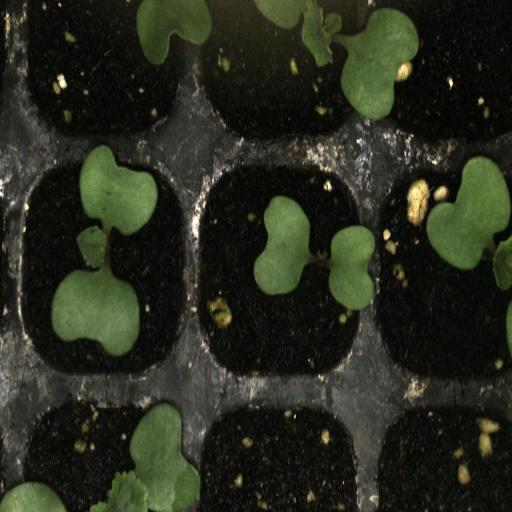seedling: (10, 151, 195, 385), (196, 148, 368, 388), (194, 0, 370, 149)
